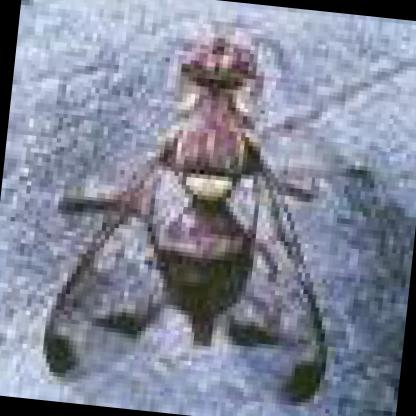fruit fly: (41, 34, 328, 411)
